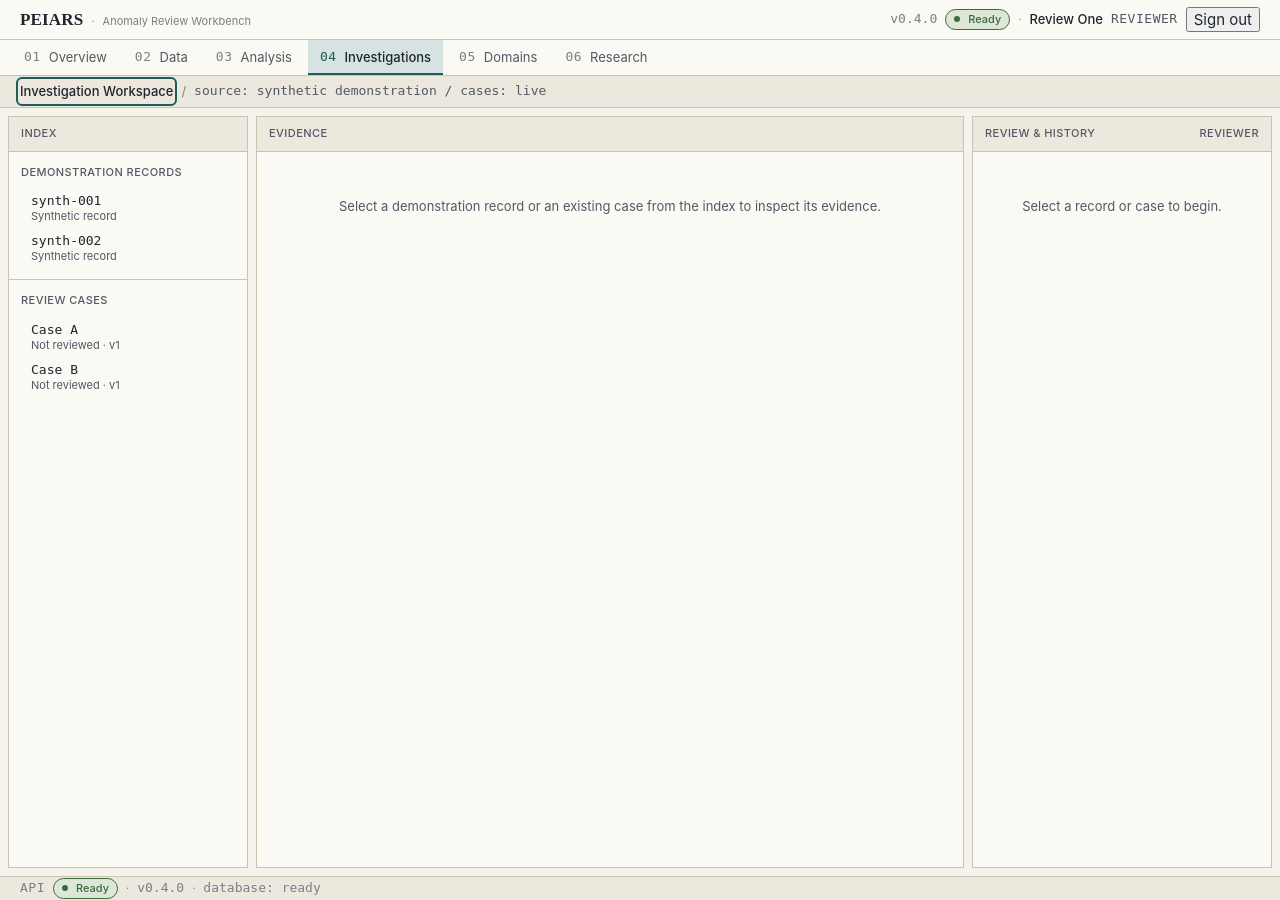
Test case: stale selection responses (PR-07A B1/B2/B4) and uncertain outcome (E4) › B4: unmount with pending requests produces no unhandled rejection and no cross-selection corruption
Later steps or results of the test are not shown.
Click the button "Case A Not reviewed · v1". click: [128, 337]
box: left=21, top=318, right=235, bottom=356
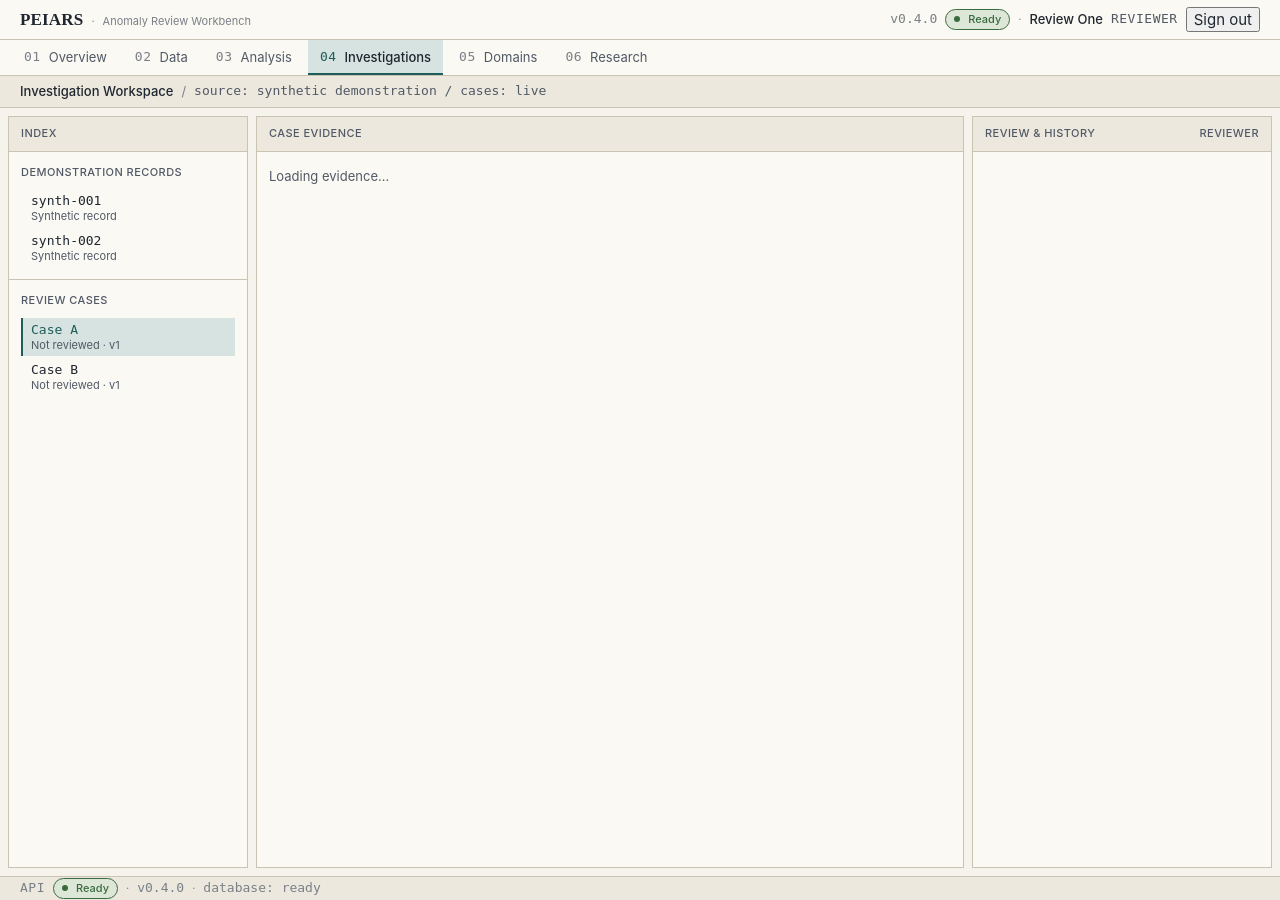
Check: the text "Loading evidence…" is shown, box left=269, top=166, right=389, bottom=186
